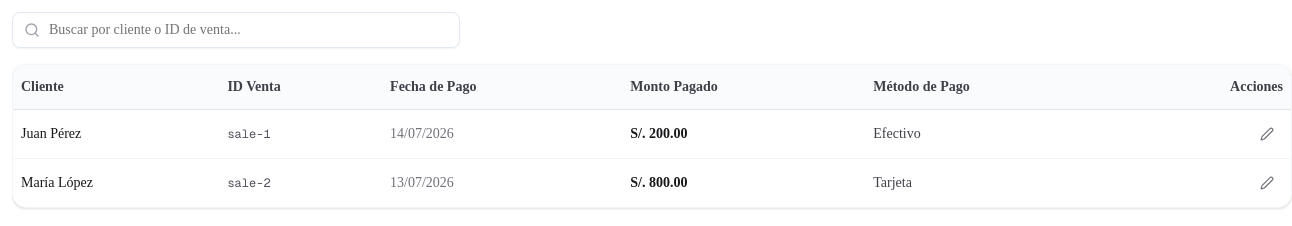
Scenario: PaymentTable › muestra mensaje cuando no hay resultados
Type "ZZZZ" into the field with placeholder "Buscar por cliente o ID de venta..." at coordinates (236, 30), box [12,12,460,48]
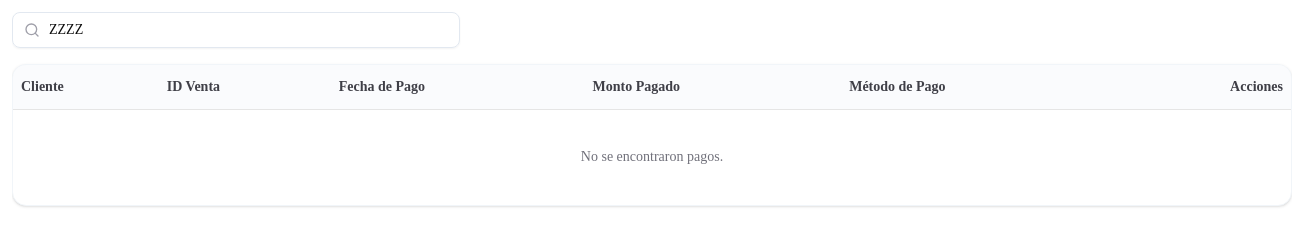
Result: the text "No se encontraron pagos." is shown at [13,109,1291,205]
